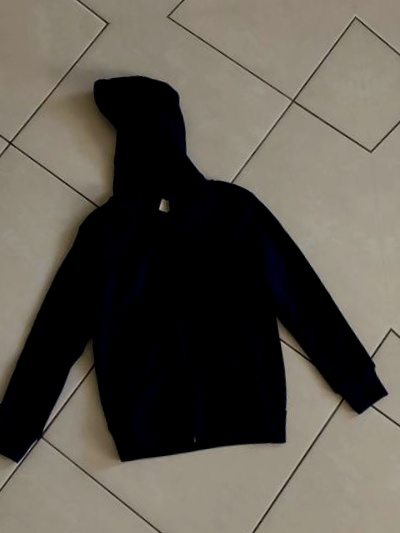Hoodie: (0, 42, 370, 491), (393, 0, 400, 441)
